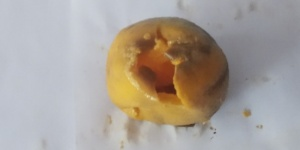BAD: (106, 17, 230, 125)
